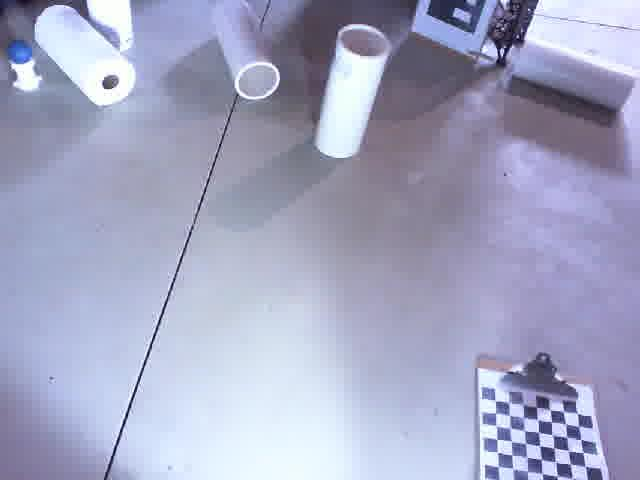coral: (313, 24, 389, 159), (35, 3, 133, 104), (211, 0, 279, 101)
